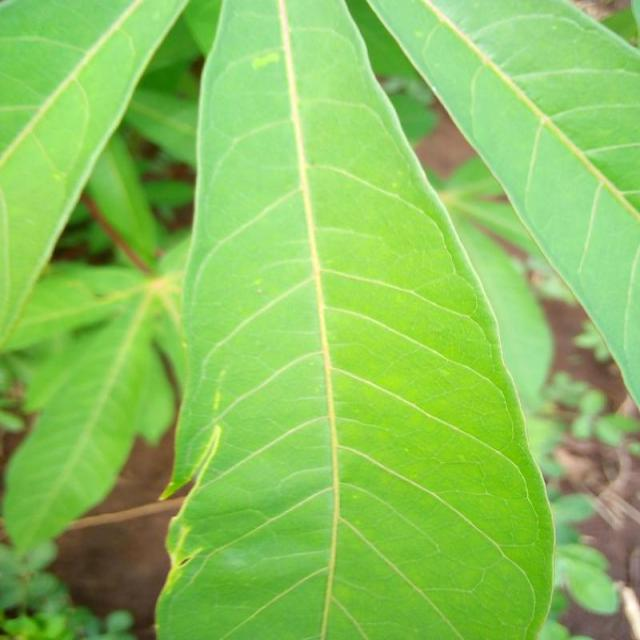cassava leaf: (152, 0, 557, 638), (360, 0, 638, 415), (0, 0, 190, 349)
